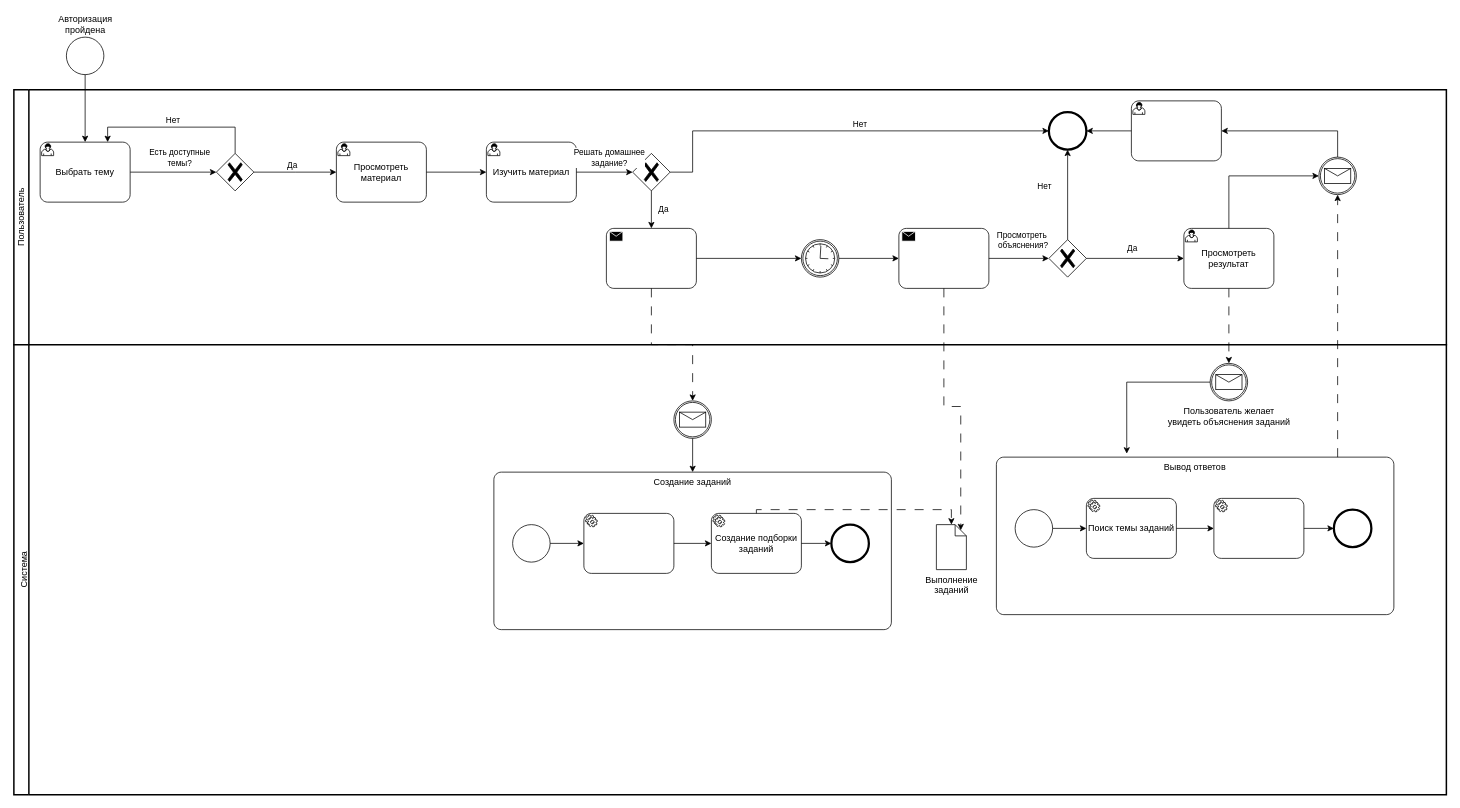
Some shapes in this 1460 by 808 pixel diagram are drawn without their labels. The shapes that lost their labels are listed below. From the top down, each one's centre as x and y in pixels, then its label:
[1176,130]: Изучений данных
[1337,175]: Получение данных
[651,258]: Начать выполнение заданий
[820,258]: Ожидание
[943,258]: Ответить на вопросы
[628,543]: Выборка заданий по сложности выполнения
[1258,528]: Сбор всех объяснений
